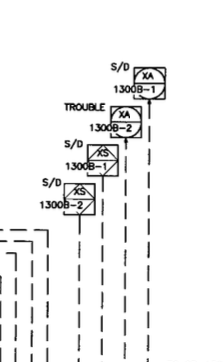Instrument-square-offset: (62, 141, 123, 181), (88, 102, 147, 142), (41, 179, 100, 218), (115, 65, 172, 103)
